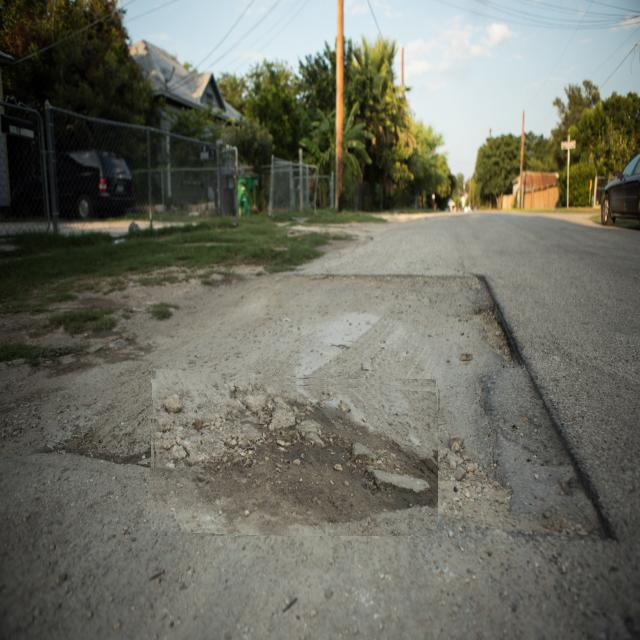Pothole: (149, 374, 438, 536)
